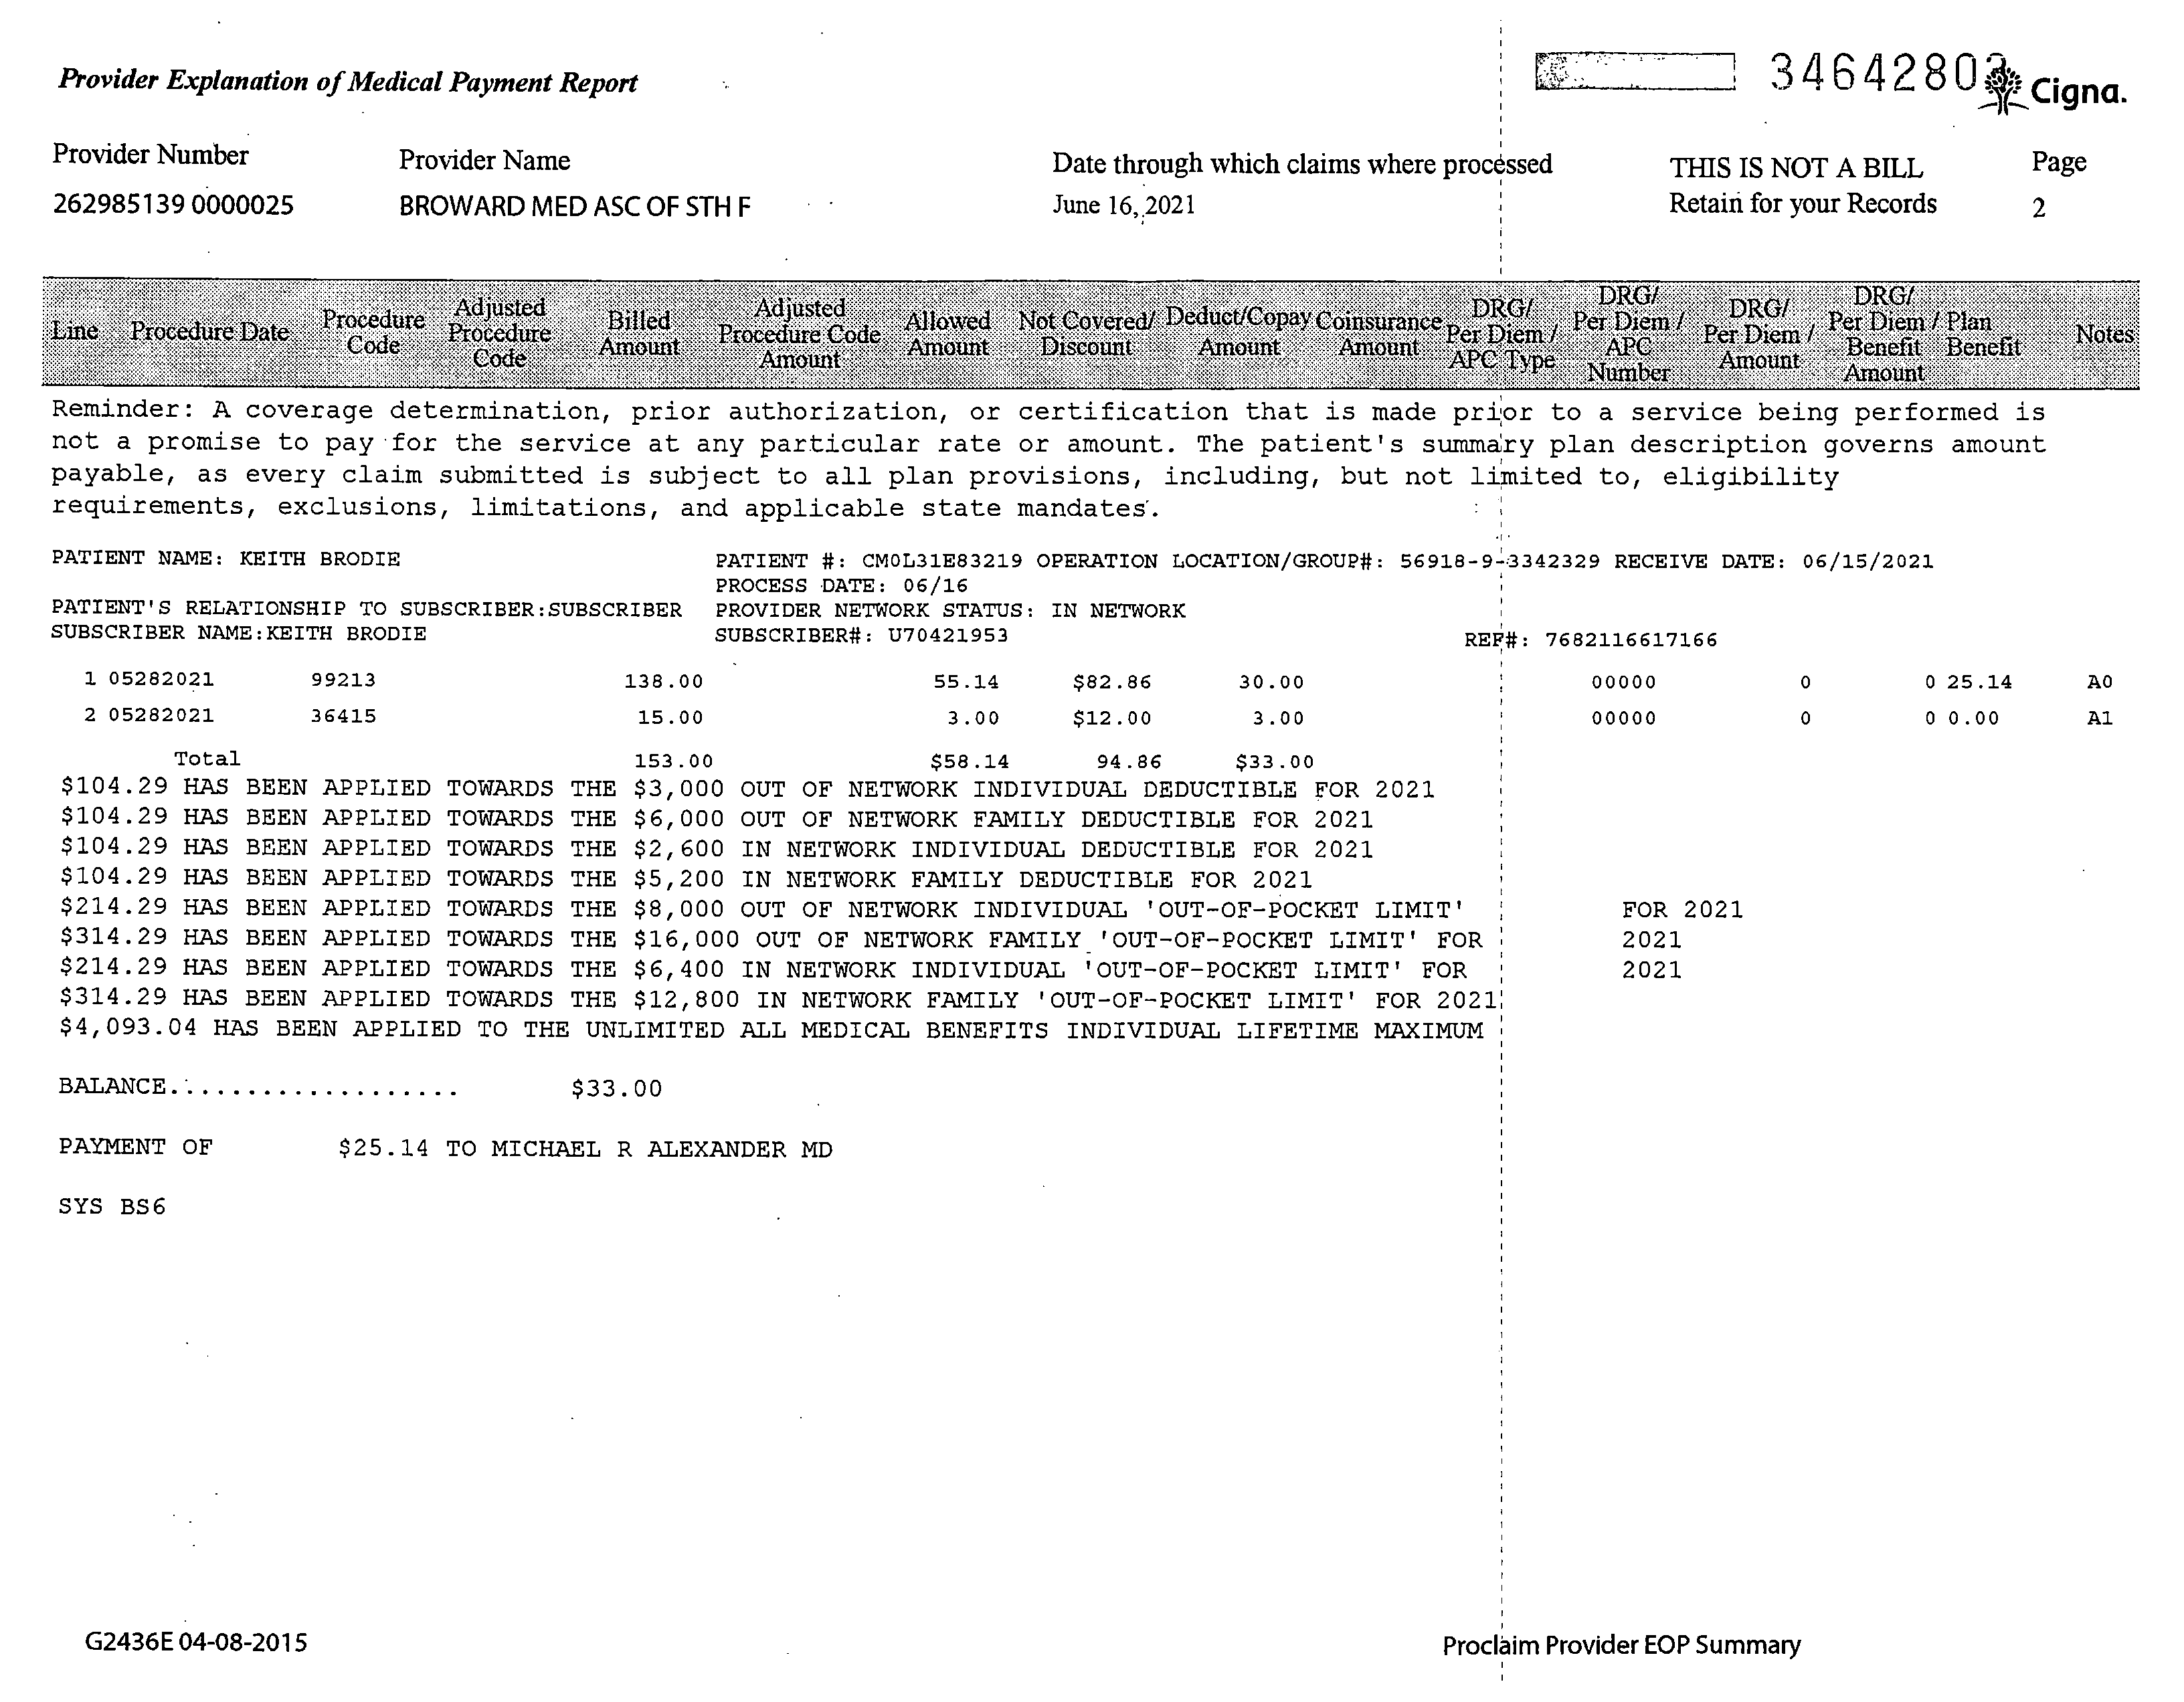table: (41, 131, 776, 239)
